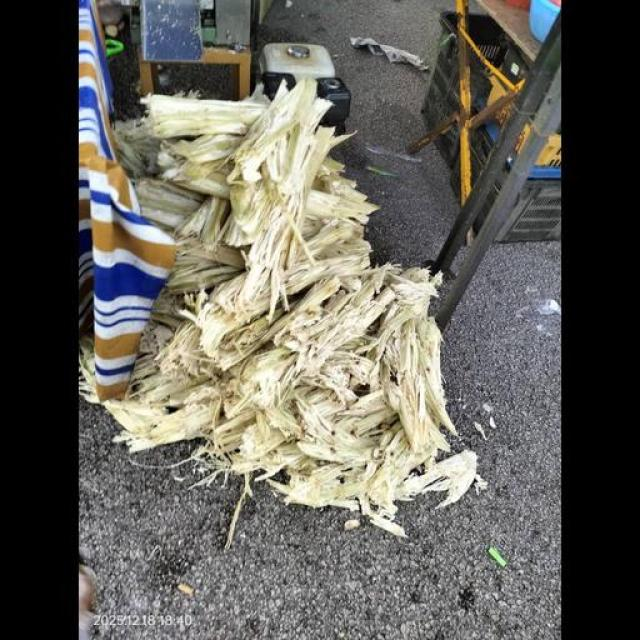organic: (117, 86, 525, 545), (488, 547, 507, 567), (367, 165, 397, 177), (105, 39, 123, 58)
